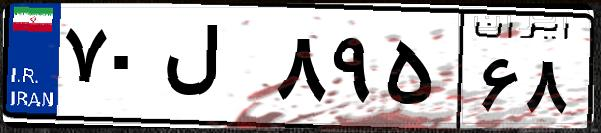0: (110, 28, 158, 98)
5: (385, 28, 445, 110)
6: (475, 38, 525, 113)
7: (57, 26, 110, 100)
8: (270, 28, 330, 110), (525, 38, 570, 115)
9: (330, 28, 385, 110)
ل: (158, 20, 270, 120)
